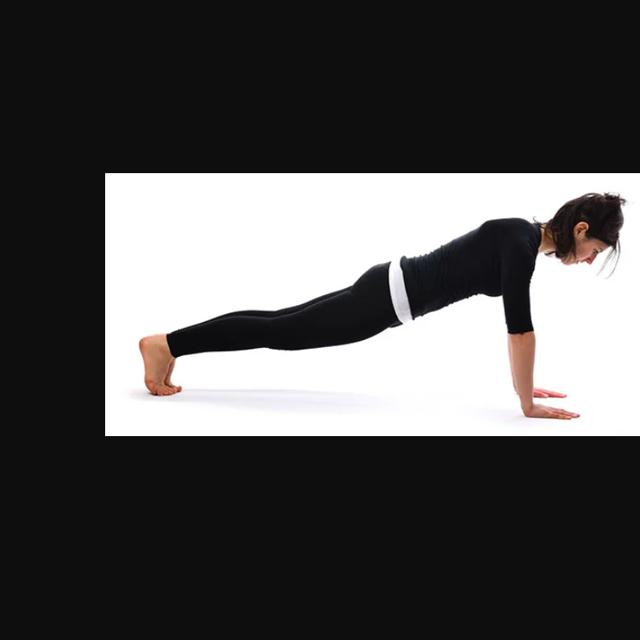Plank_Pose: (123, 186, 640, 425)
